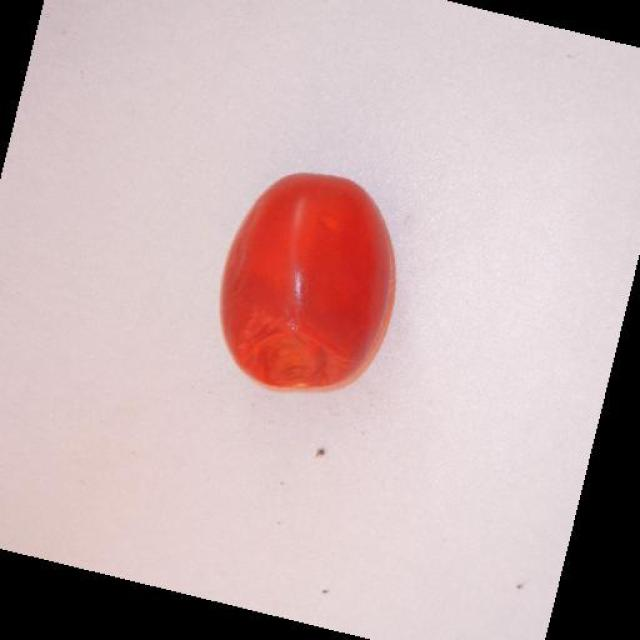Stale_tomato: (200, 150, 410, 412)
